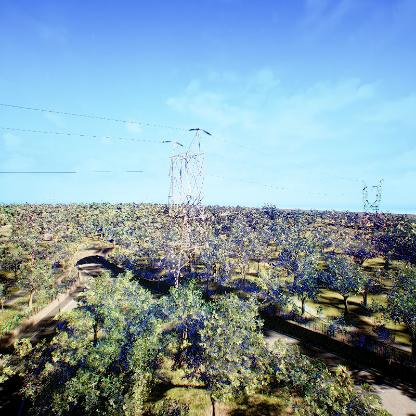tower: (155, 123, 222, 291)
